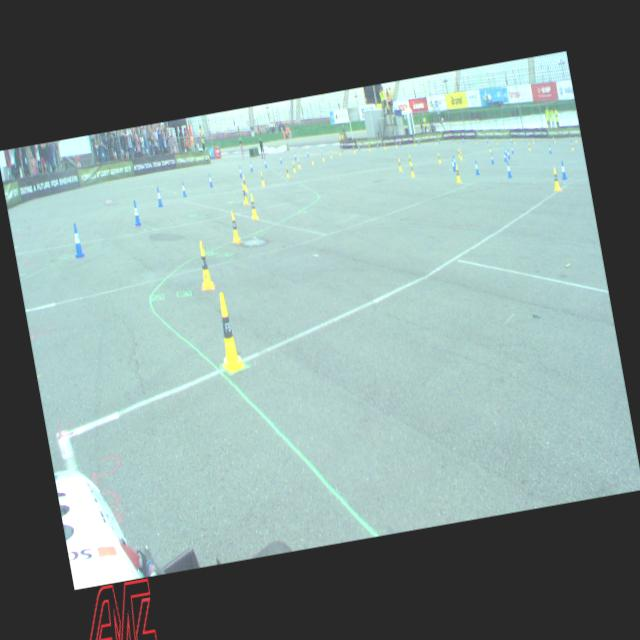blue_cone: (70, 222, 84, 257), (130, 200, 142, 226), (155, 186, 163, 207), (558, 159, 566, 179), (504, 160, 512, 178), (180, 180, 187, 197), (207, 173, 213, 187), (450, 157, 456, 170), (474, 160, 479, 174), (489, 152, 494, 164), (238, 165, 242, 178), (248, 160, 252, 171), (264, 157, 268, 167), (278, 154, 282, 163)
yellow_cone: (210, 290, 246, 373), (193, 240, 214, 292), (227, 209, 241, 244), (247, 192, 258, 220), (550, 166, 561, 191), (240, 182, 249, 205), (453, 163, 461, 183), (242, 174, 248, 192), (259, 170, 265, 186), (408, 162, 414, 176), (396, 157, 402, 171), (284, 165, 290, 178), (436, 152, 441, 162), (292, 161, 296, 172), (296, 158, 300, 168), (310, 154, 314, 164), (527, 141, 531, 150)
